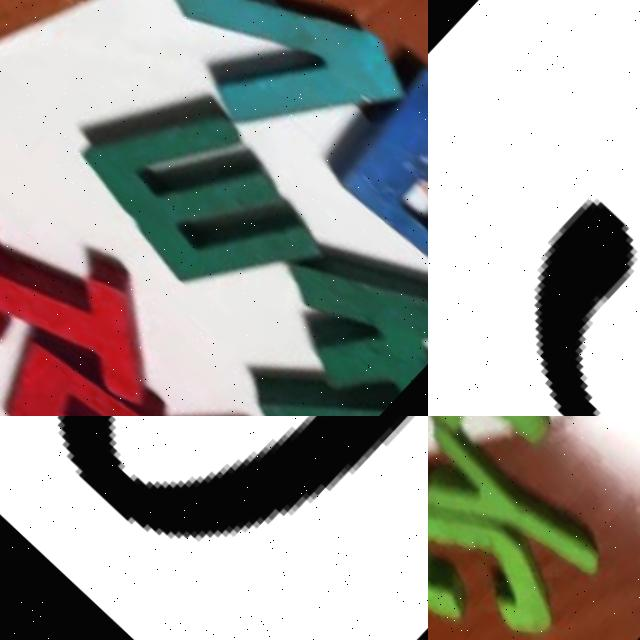0: (0, 416, 428, 632)
2: (428, 0, 640, 416)
B: (305, 45, 428, 318)
C: (428, 461, 568, 640)
E: (0, 323, 175, 416)
F: (428, 416, 563, 501)
I: (0, 160, 201, 416)
J: (0, 0, 259, 44)
K: (260, 221, 428, 416)
M: (43, 50, 325, 330)
V: (124, 0, 423, 195)
Y: (428, 416, 623, 634)
